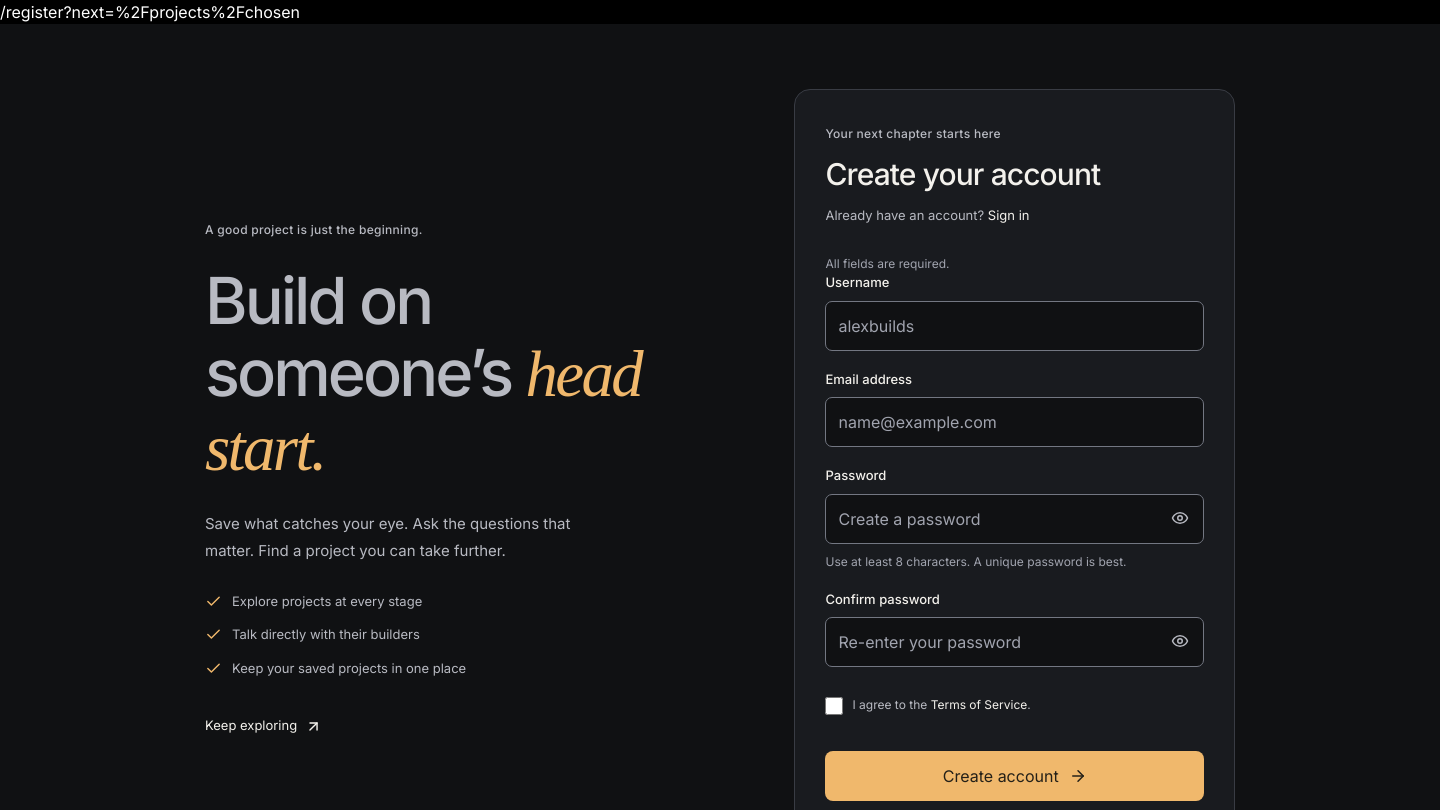
registration checks password confirmation and terms, then resumes the intended destination
Type "qa_builder" into the field labelled "Username" at (1015, 326), box [826, 301, 1204, 351]
Type "qa@example.com" into the field labelled "Email address" at (1015, 422), box [826, 397, 1204, 447]
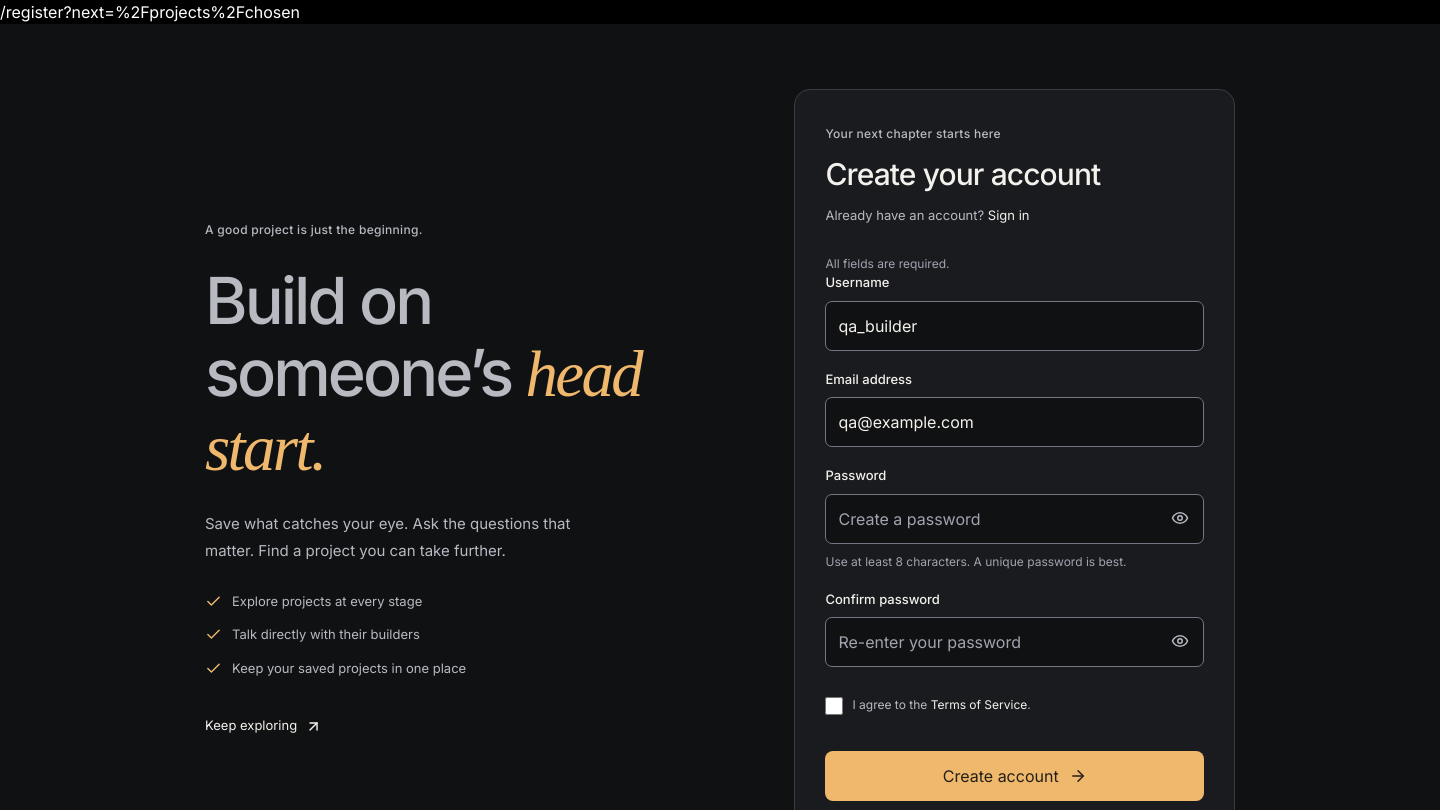
Type "Fixture-password!" into the password field labelled "Password" at (1015, 519), box [826, 494, 1204, 544]
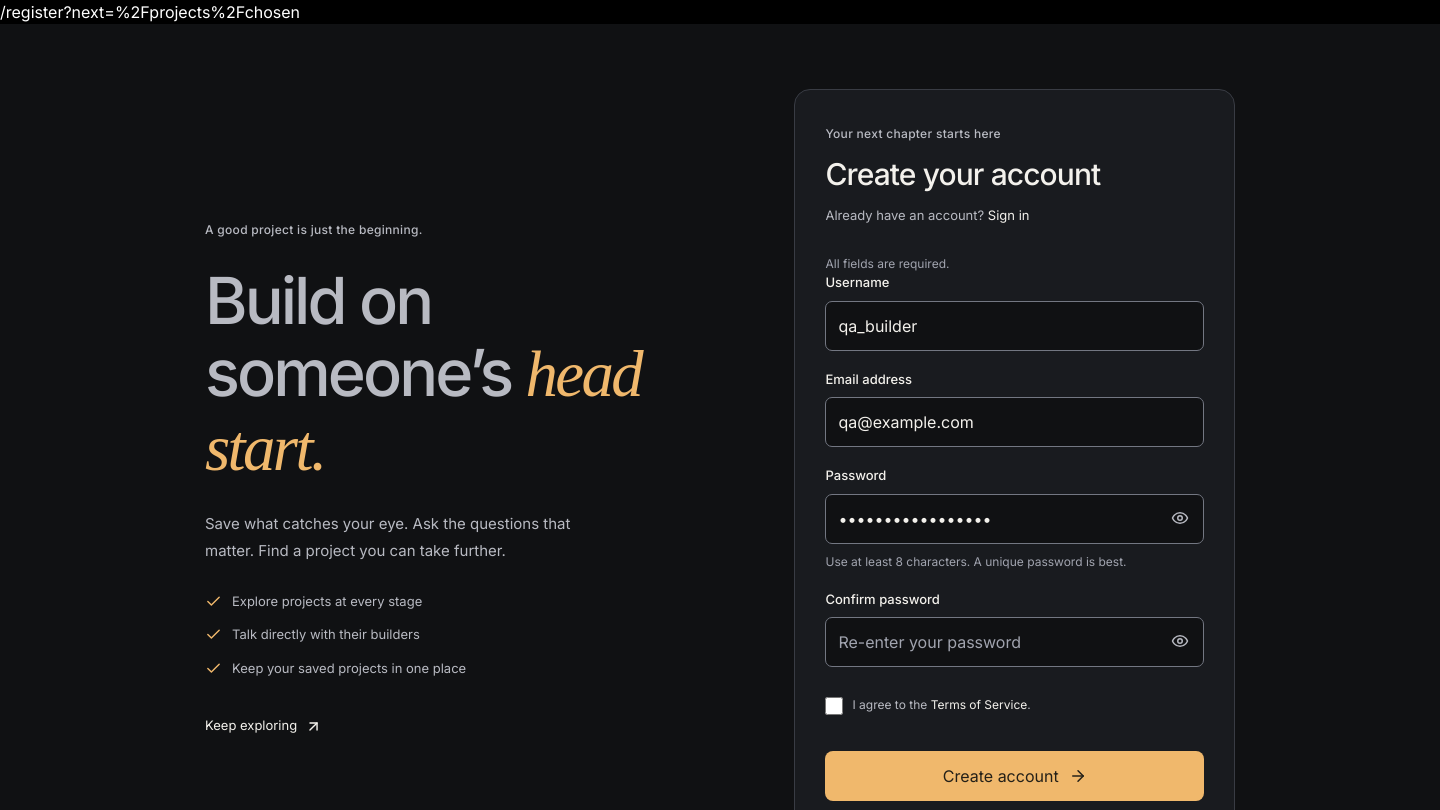
Click the button "Create account" at (1015, 776), box [826, 752, 1204, 802]
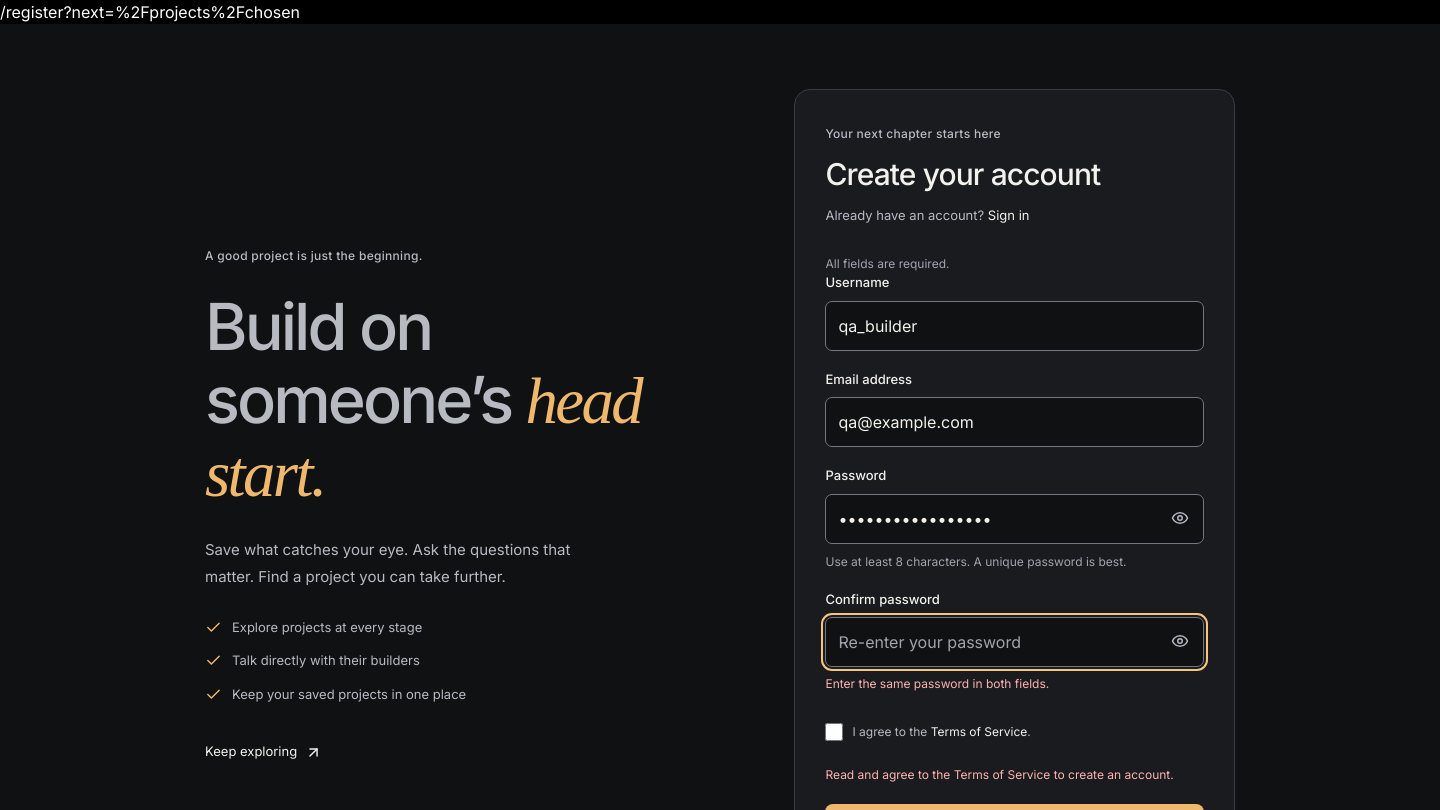
Expected: the text "Enter the same password in both fields." is shown, [826, 676, 1049, 692]
Type "Fixture-password!" into the password field labelled "Confirm password" at (1015, 642), box [826, 618, 1204, 668]
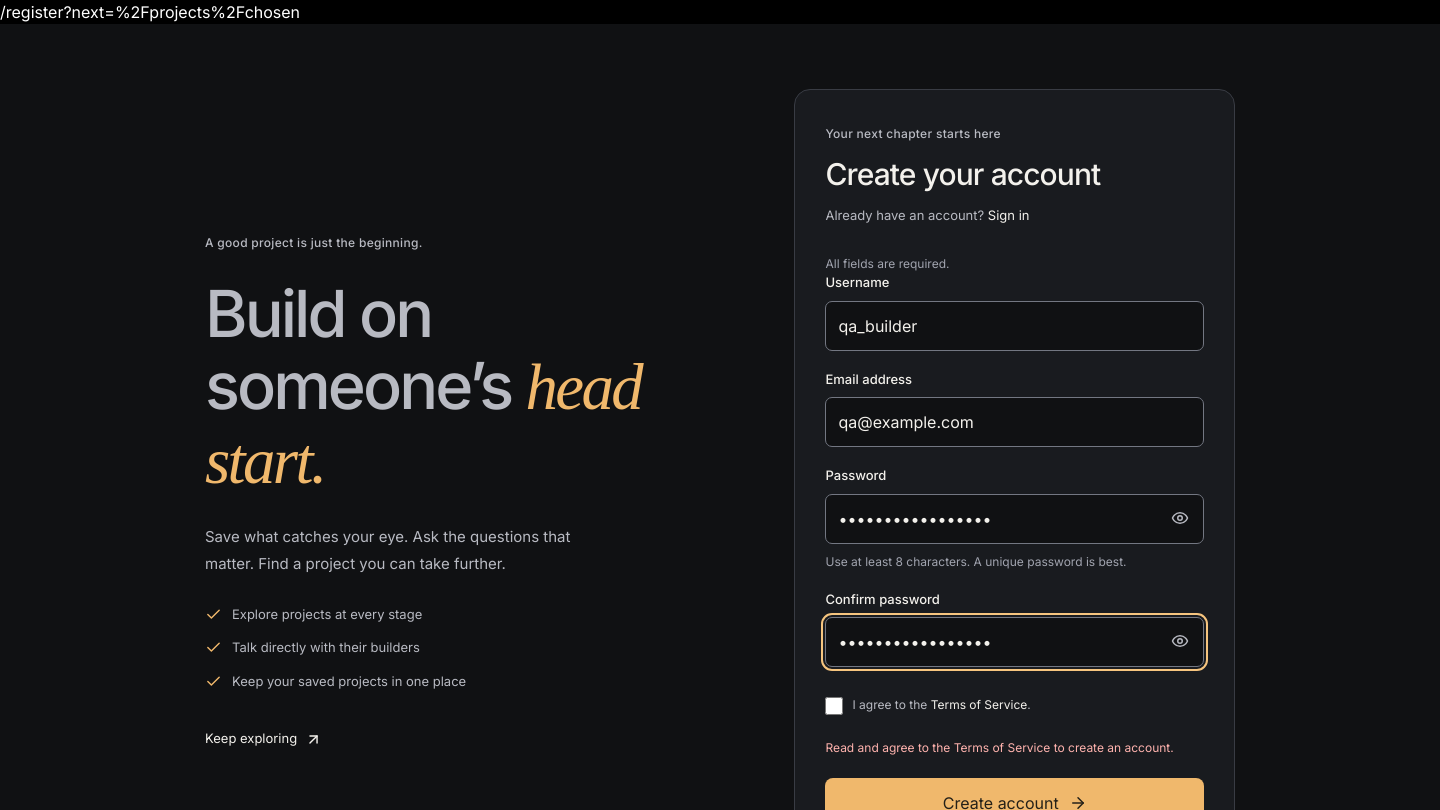
Click the checkbox at (834, 706), box [826, 697, 844, 715]
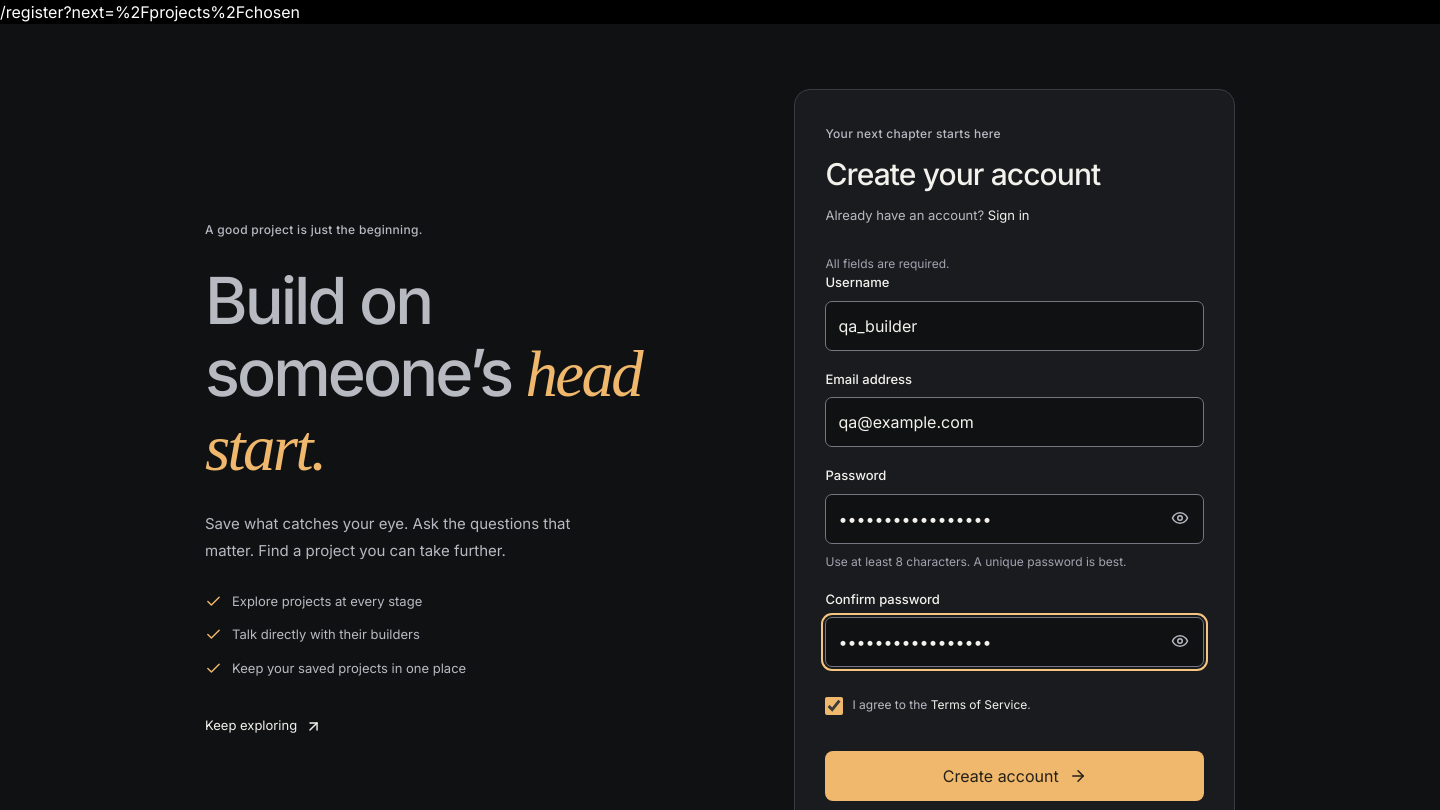
Click the button "Create account" at (1015, 776), box [826, 752, 1204, 802]
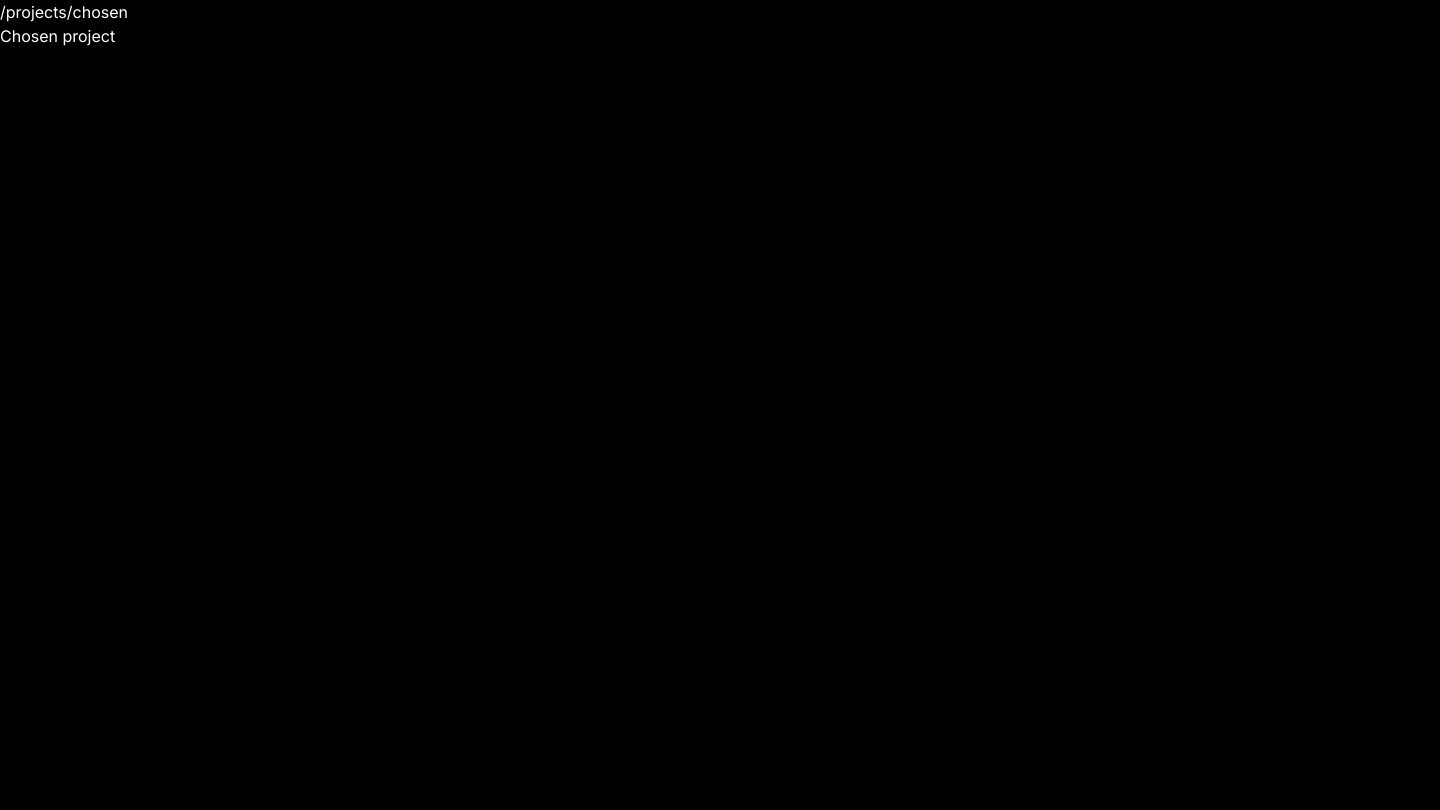
Expected: the text "Chosen project" is shown, [0, 26, 115, 46]
